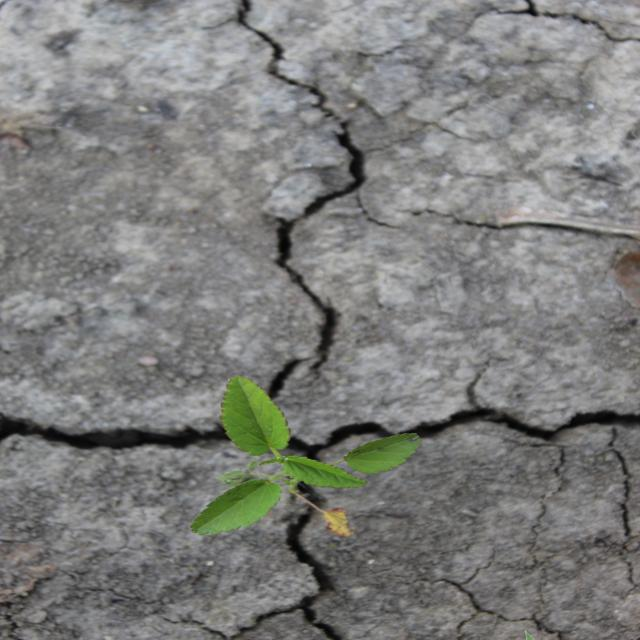PricklySida: (188, 374, 425, 538)
